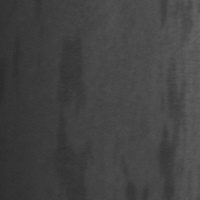inclusion: (56, 32, 95, 198), (160, 57, 187, 197), (6, 24, 27, 95), (116, 153, 140, 199), (155, 0, 172, 31)
